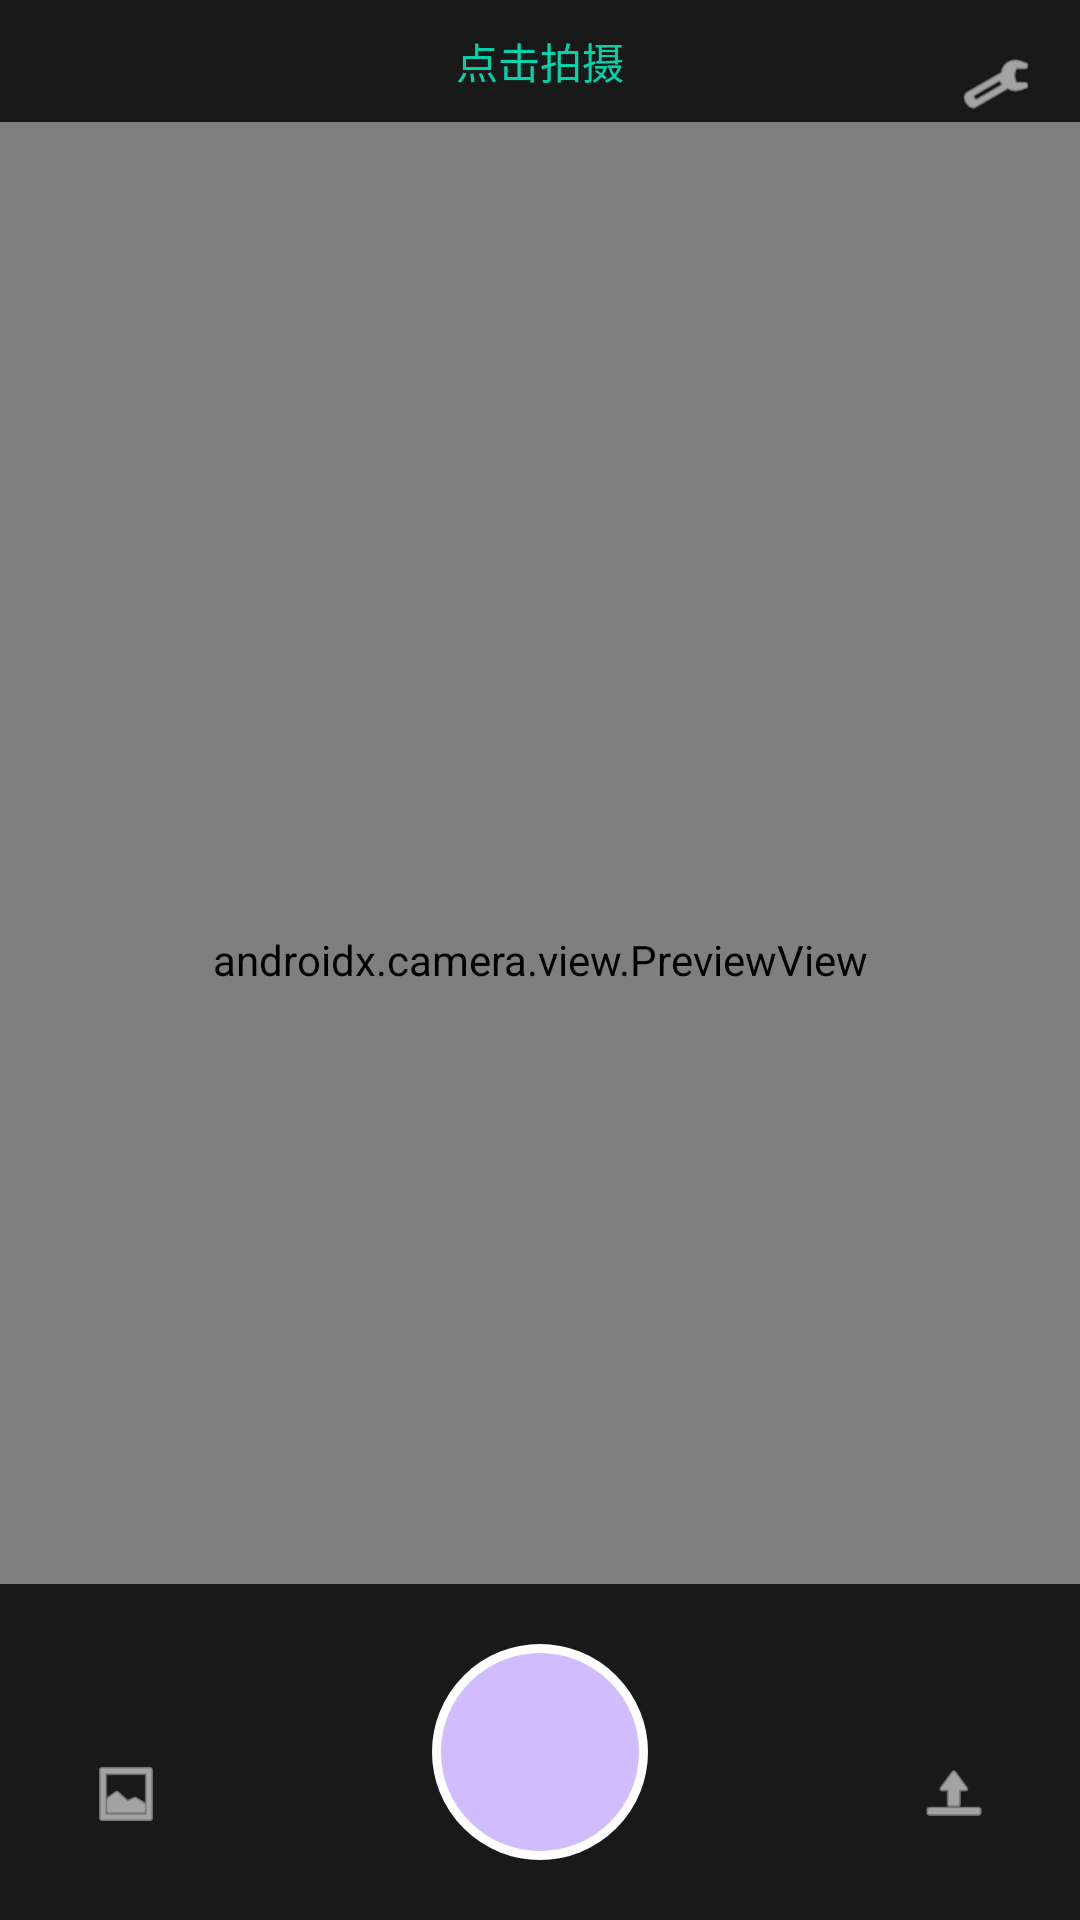

Screen size 1080x1920. Icon name, then its center in pixels as (x=x, y=y):
gallery: (x=126, y=1794)
manage: (x=996, y=101)
upload: (x=954, y=1793)
